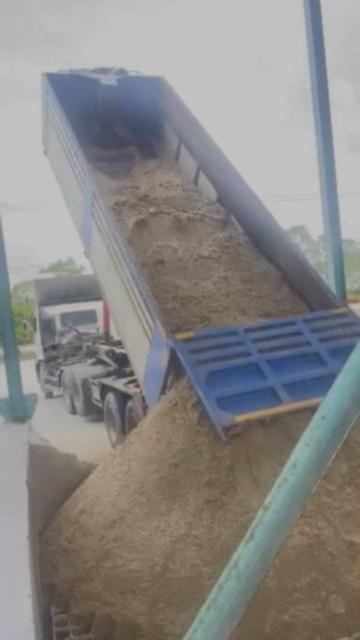sand: (42, 383, 310, 639), (91, 157, 308, 332), (235, 425, 360, 639)
